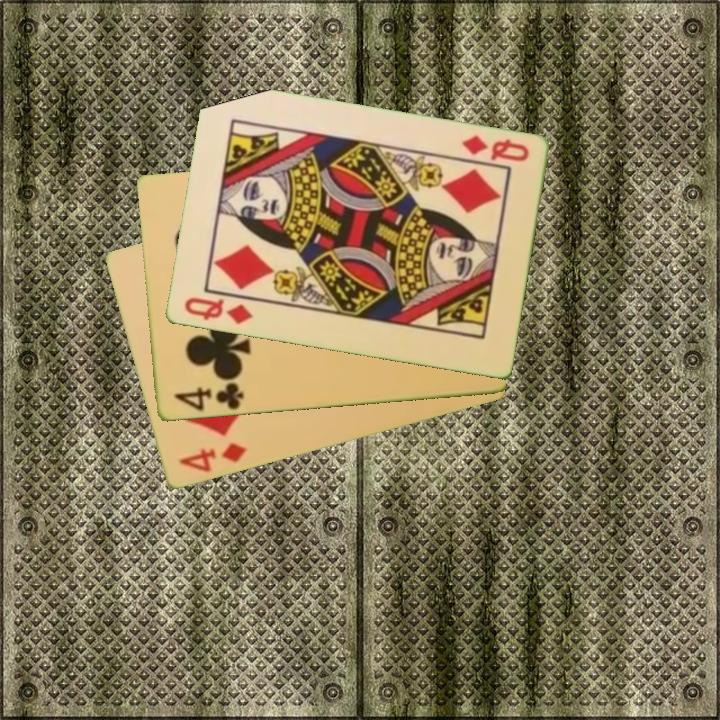4c: (170, 379, 247, 414)
4d: (175, 440, 249, 476)
Qd: (180, 294, 256, 328), (458, 132, 532, 165)
